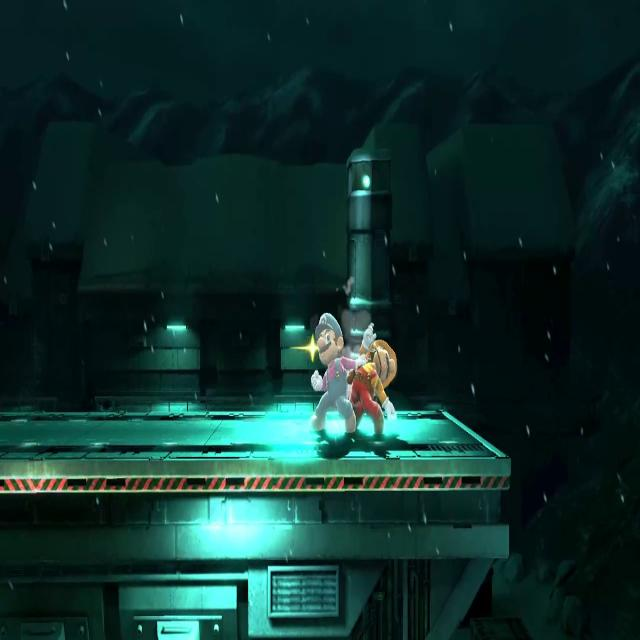Mario: (344, 316, 399, 443)
Mario-Grab: (308, 310, 368, 435)
